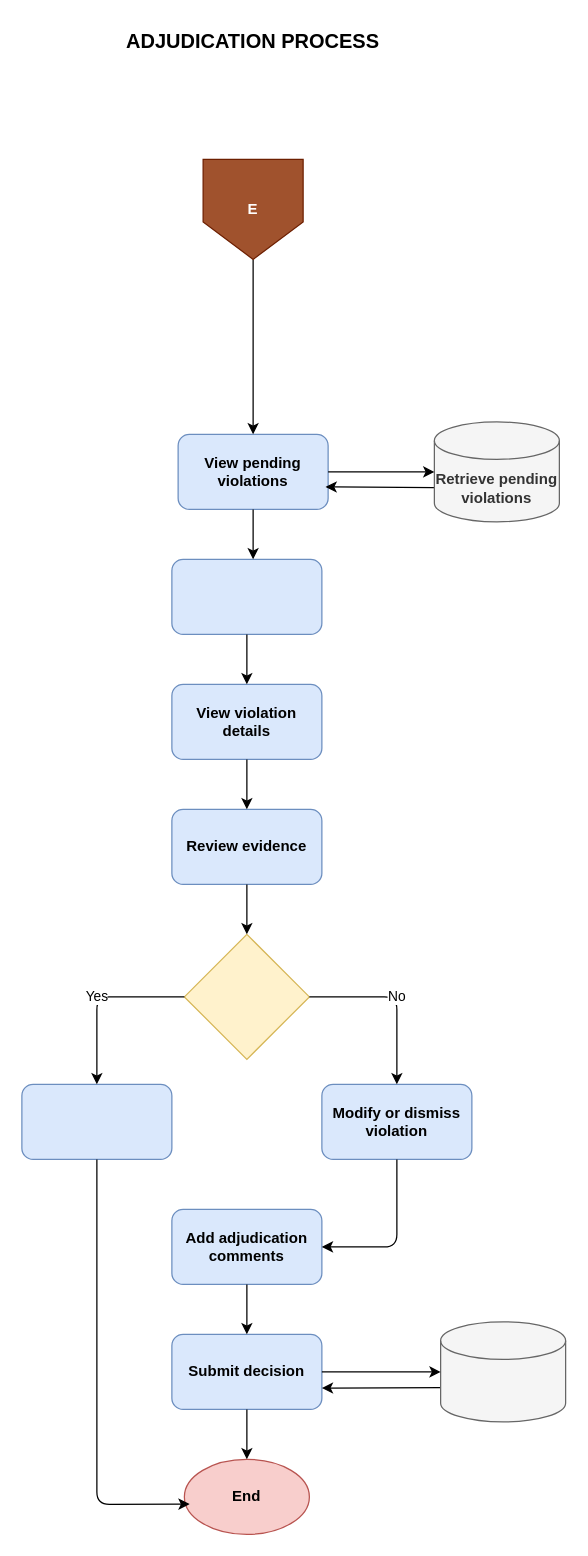
This 588x1556 diagram has some shape labels left out. Here are the shapes that lost their labels. From the top down, the centre of each, then its label:
At pixel 246 596: "Select specific violation".
At pixel 246 996: "Valid violation?".
At pixel 96 1121: "Approve violation".
At pixel 502 1371: "Update violation status".
